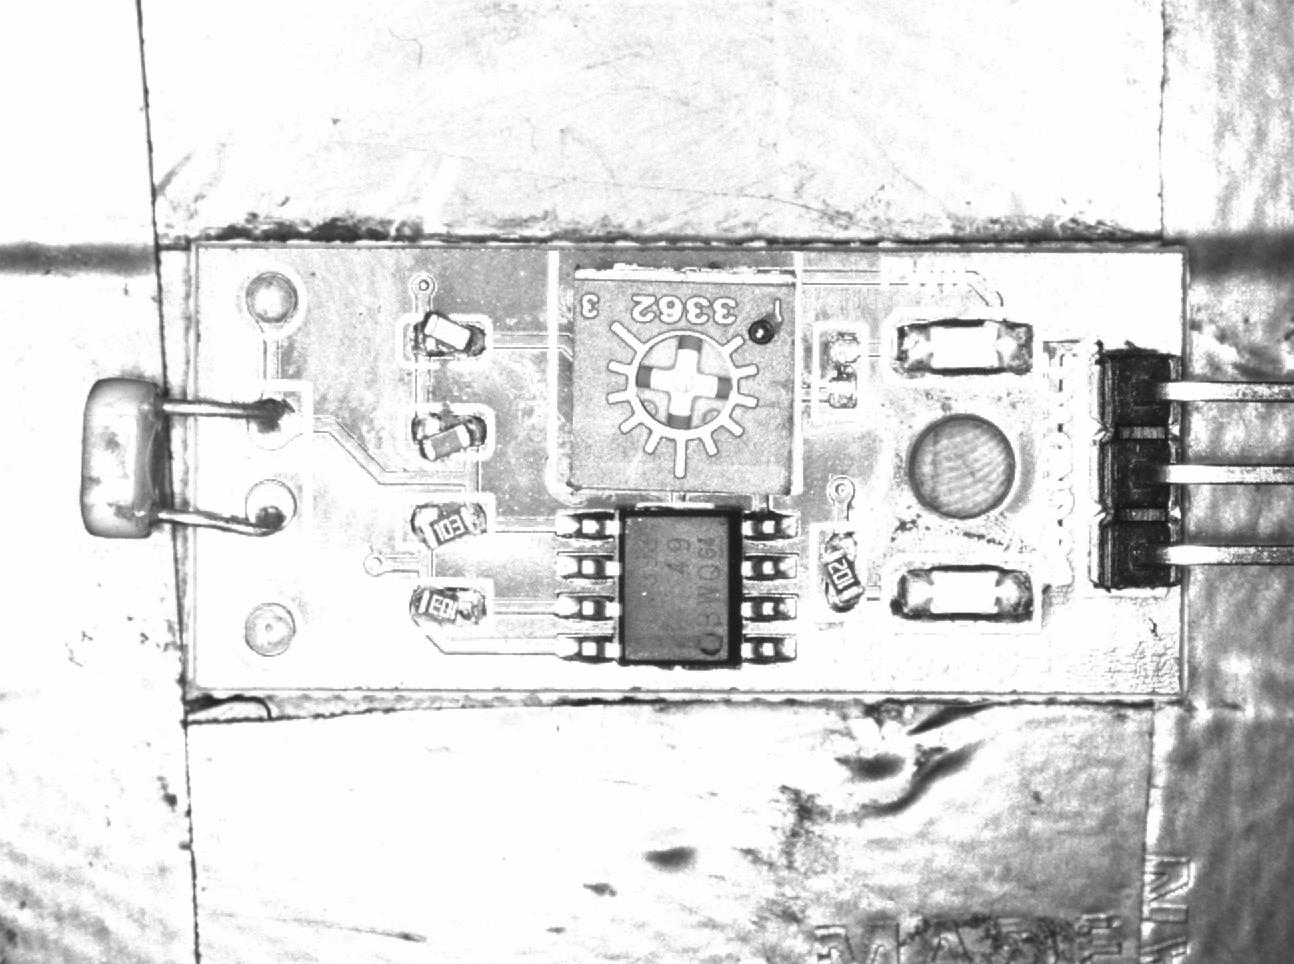lifted: (394, 314, 499, 371), (398, 403, 496, 464), (397, 491, 495, 549), (811, 520, 867, 621), (402, 582, 494, 631)
miss: (816, 326, 871, 424)
